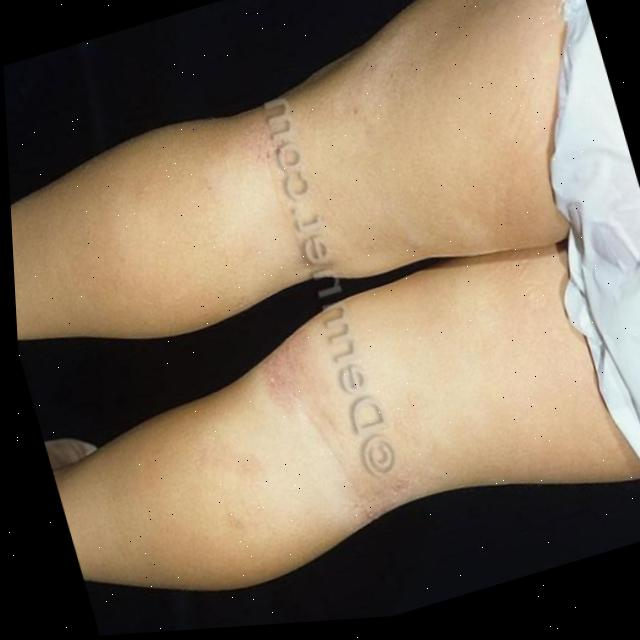Eczema: (245, 334, 335, 421), (215, 108, 294, 187), (353, 458, 419, 501)
